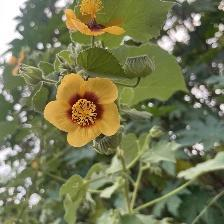indian mallow: (44, 72, 125, 151)
